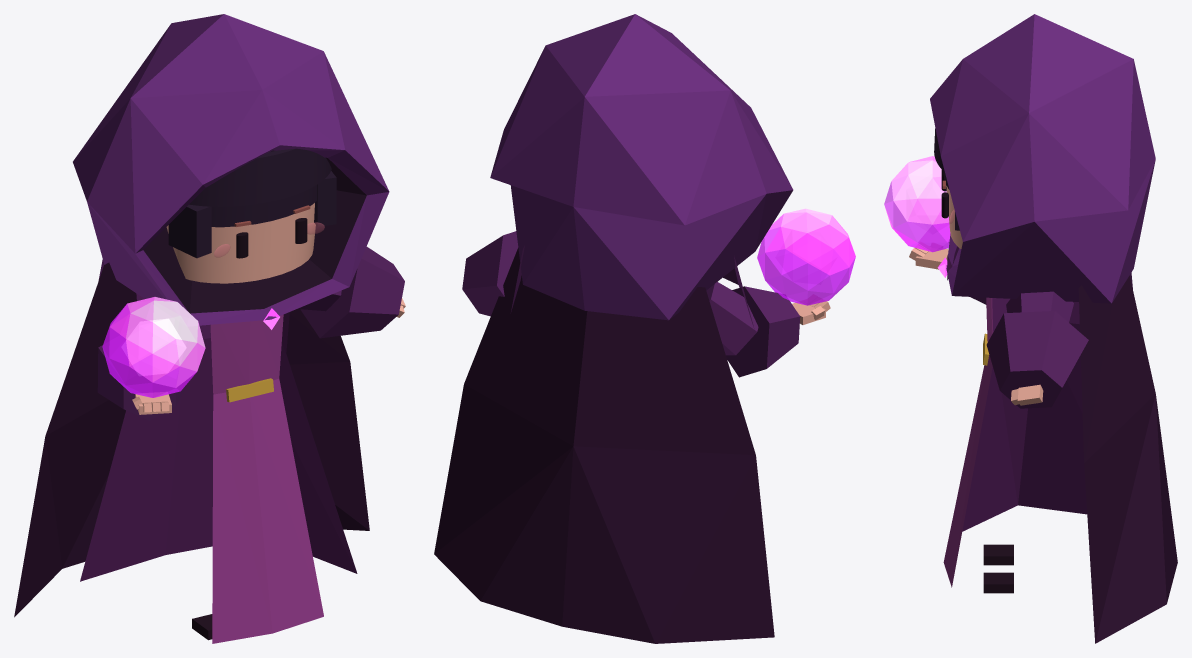
Rendered from seer.glb.
The picture shows the model from 3 angles, left to right: view 1: azimuth 30°, elevation 25°; view 2: azimuth 150°, elevation 25°; view 3: azimuth 270°, elevation 25°; orthographic projection. The views are drawn at different scales.
Visible parts, largest first — view 1: HoodGroup, RobeGroup, CapeGroup, FaceGroup, MagicOrbAnchor, LeftForearm, RightForearm, WaistBelt, RightHand; view 2: CapeGroup, HoodGroup, MagicOrbAnchor, RightForearm, LeftForearm, ArmRightPivot, RightHand; view 3: HoodGroup, CapeGroup, RobeGroup, LeftForearm, MagicOrbAnchor, Shoes, ArmLeftPivot, FaceGroup, RightHand, LeftHand.
Part boxes in pixels (x1,y1,x2,y2): HoodGroup: [73, 14, 389, 325]; RobeGroup: [80, 293, 357, 643]; CapeGroup: [14, 262, 369, 617]; FaceGroup: [166, 148, 336, 283]; MagicOrbAnchor: [102, 297, 205, 397]; LeftForearm: [300, 246, 404, 338]; RightForearm: [97, 330, 186, 420]; WaistBelt: [226, 378, 273, 402]; RightHand: [132, 392, 171, 414]; CapeGroup: [434, 248, 774, 643]; HoodGroup: [490, 14, 793, 320]; MagicOrbAnchor: [757, 208, 855, 305]; RightForearm: [726, 286, 800, 377]; LeftForearm: [462, 231, 518, 316]; ArmRightPivot: [706, 282, 758, 355]; RightHand: [792, 299, 830, 324]; HoodGroup: [930, 14, 1155, 303]; CapeGroup: [1078, 275, 1177, 643]; RobeGroup: [943, 297, 1087, 587]; LeftForearm: [986, 311, 1088, 408]; MagicOrbAnchor: [884, 156, 950, 252]; Shoes: [983, 544, 1013, 593]; ArmLeftPivot: [1006, 291, 1073, 322]; FaceGroup: [934, 128, 962, 248]; RightHand: [909, 242, 948, 269]; LeftHand: [1011, 384, 1043, 405].
Bounding box in the file's own units: 0.7 × 1.12 × 0.533.
